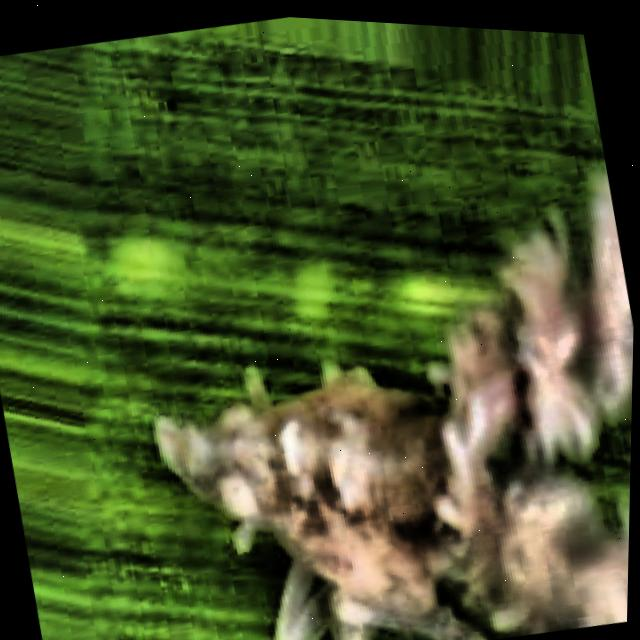Pyrilla-perpusilla: (68, 73, 639, 640)
